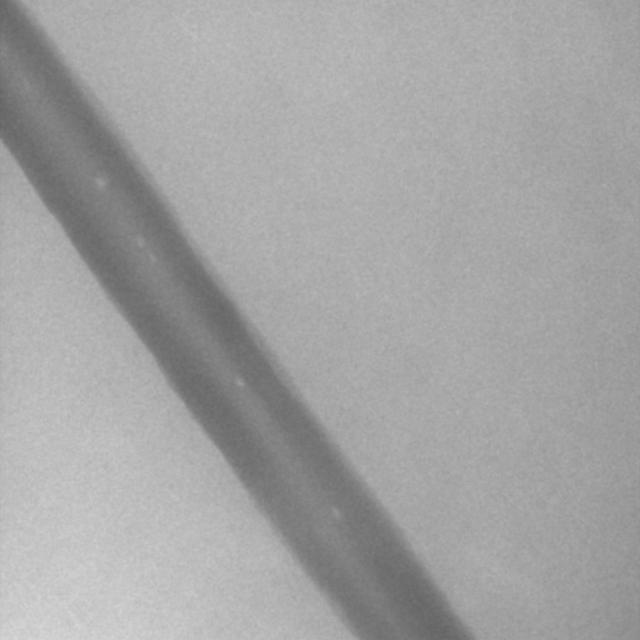air-hole: (94, 170, 110, 194), (330, 500, 340, 522), (134, 231, 146, 249), (234, 376, 246, 392), (150, 253, 161, 263)
